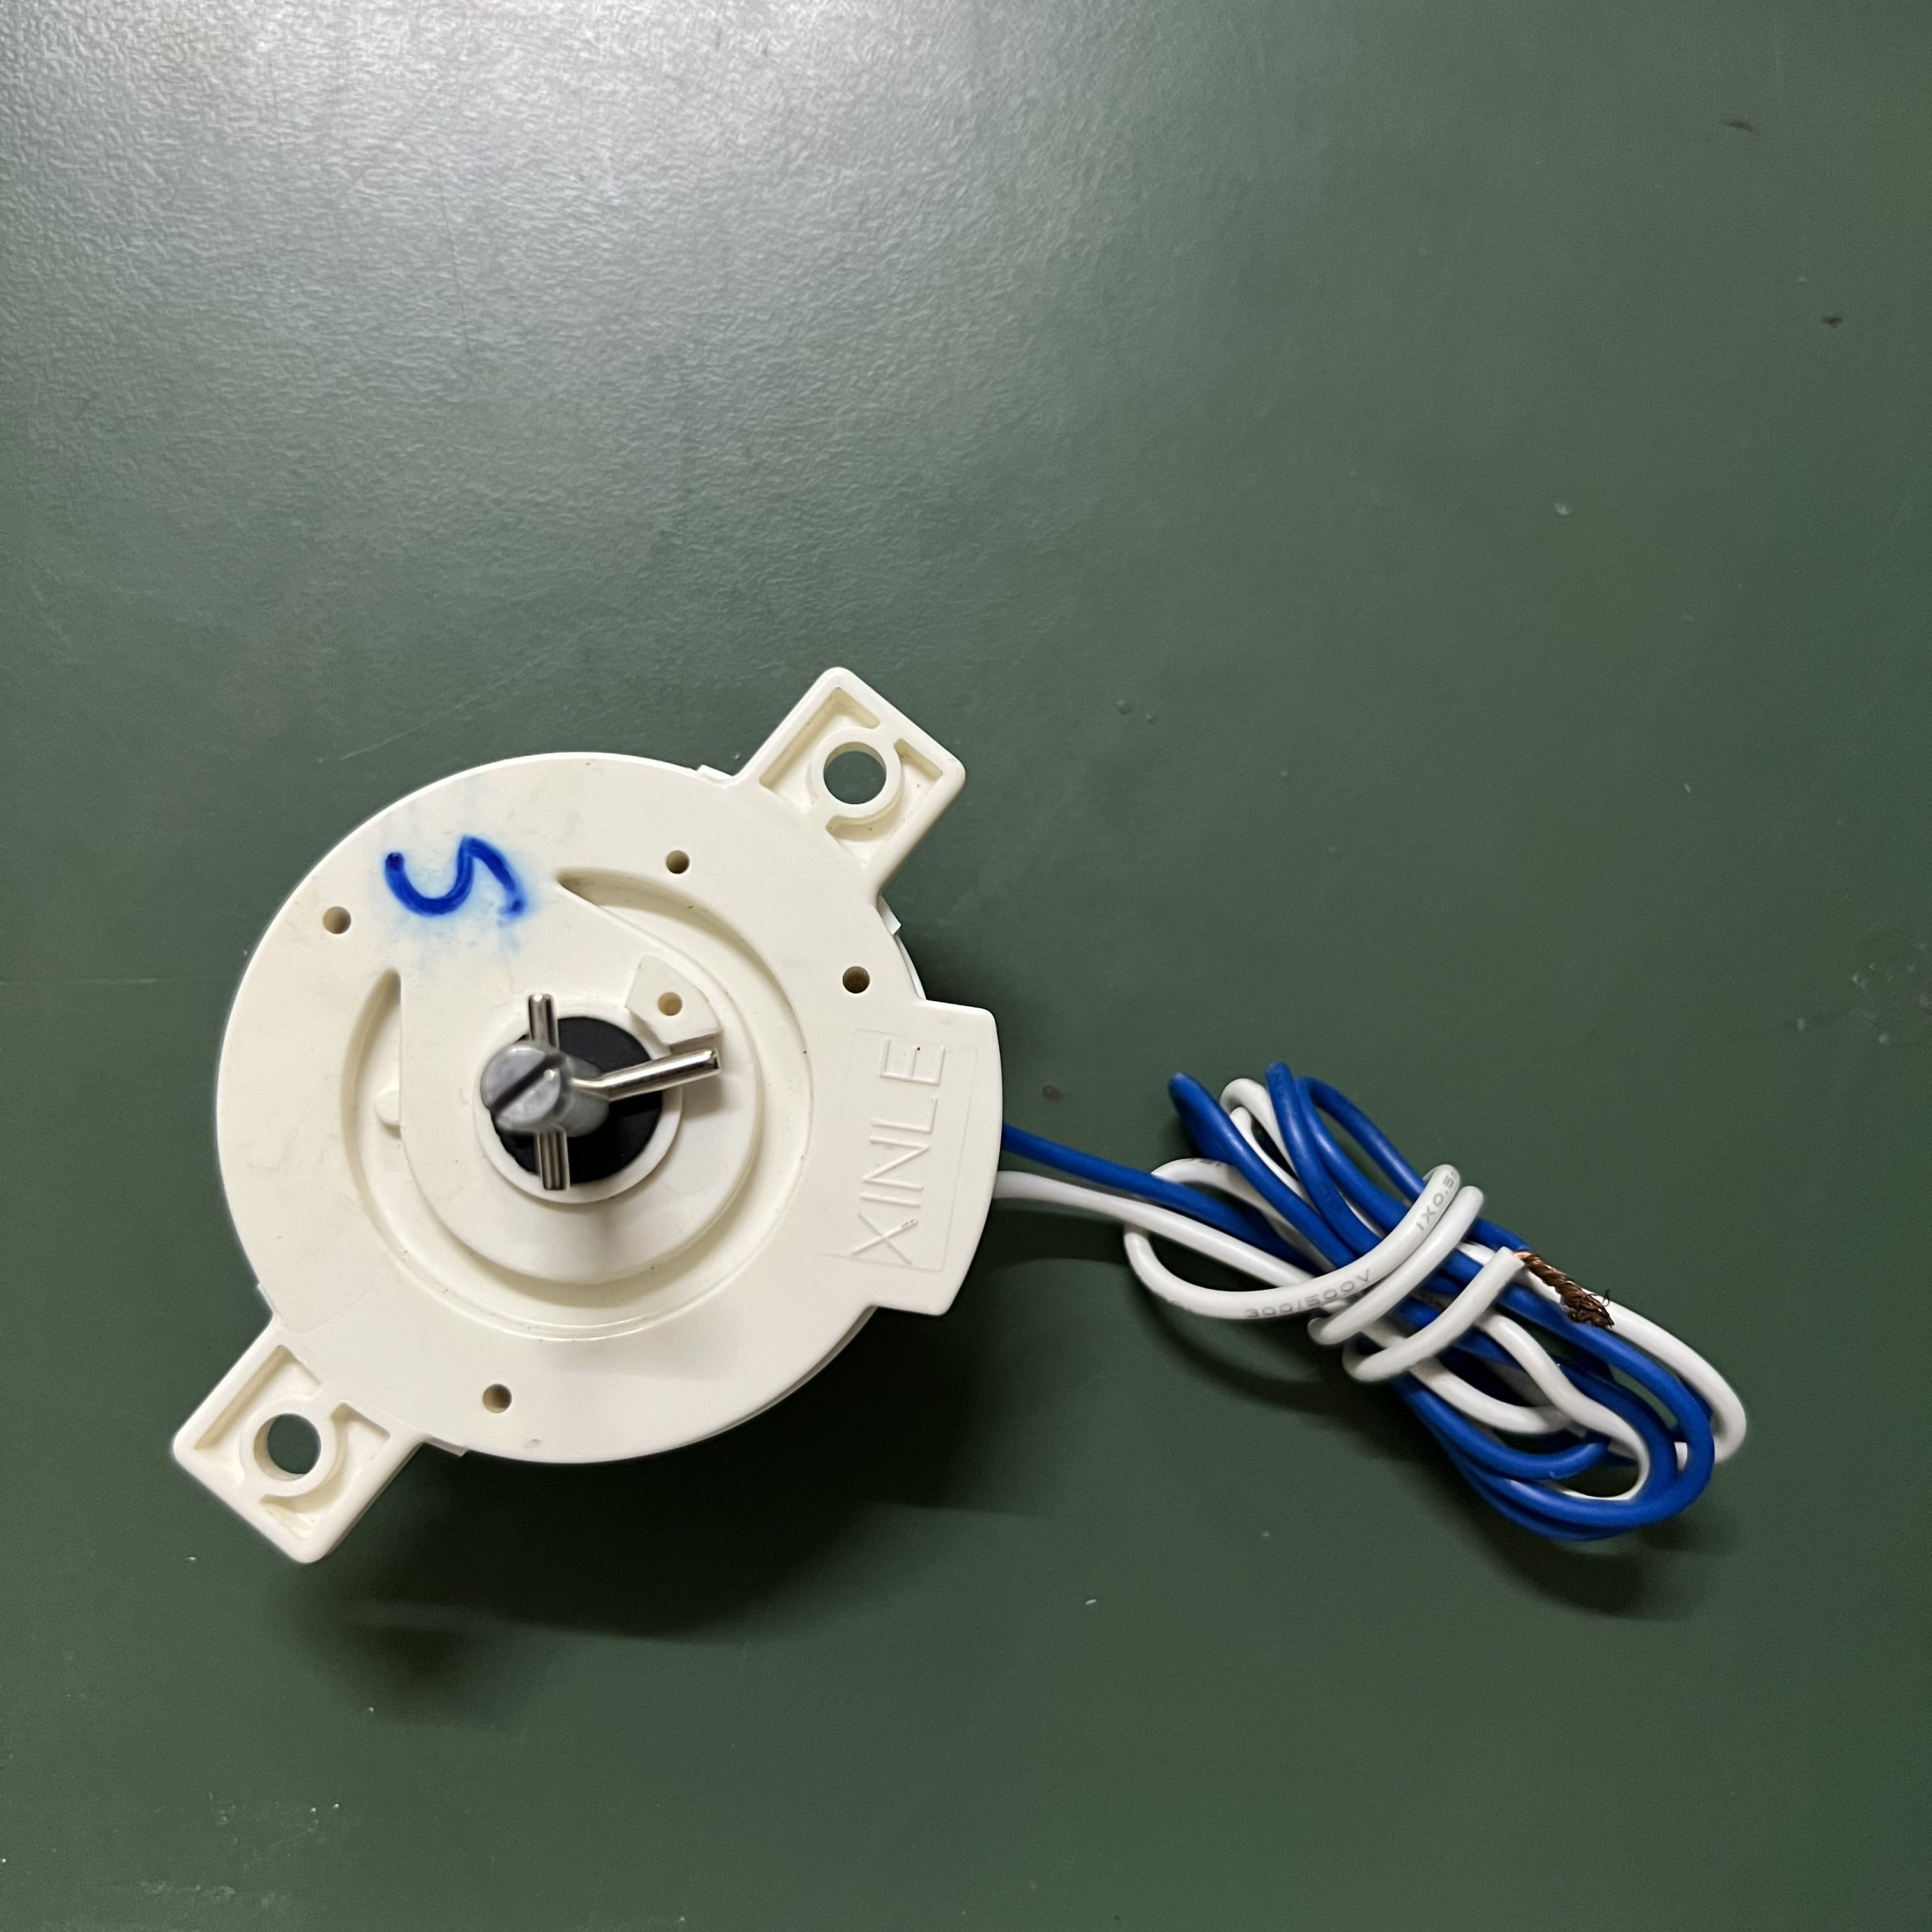circle_timer: (172, 678, 1008, 1568)
